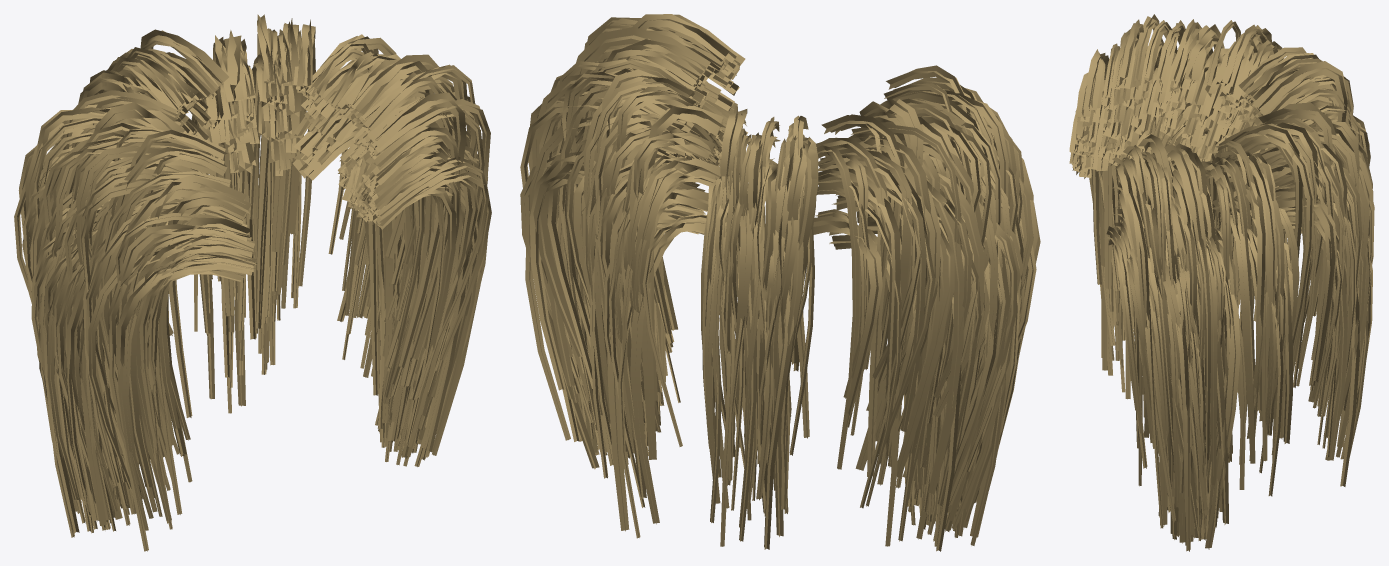
Rendered from clown-hair-desktop.glb.
3 views of the same model, side by side, from view 1: azimuth 30°, elevation 25°; view 2: azimuth 150°, elevation 25°; view 3: azimuth 270°, elevation 25° (orthographic). The views are drawn at different scales.
Visible parts, largest first — view 1: MattedBlondHair; view 2: MattedBlondHair; view 3: MattedBlondHair.
Part boxes in pixels (x1,y1,x2,y2): MattedBlondHair: (14, 14, 491, 551); MattedBlondHair: (520, 14, 1040, 551); MattedBlondHair: (1069, 14, 1374, 551).
Bounding box in the file's own units: 0.6803 × 0.6118 × 0.4246.
